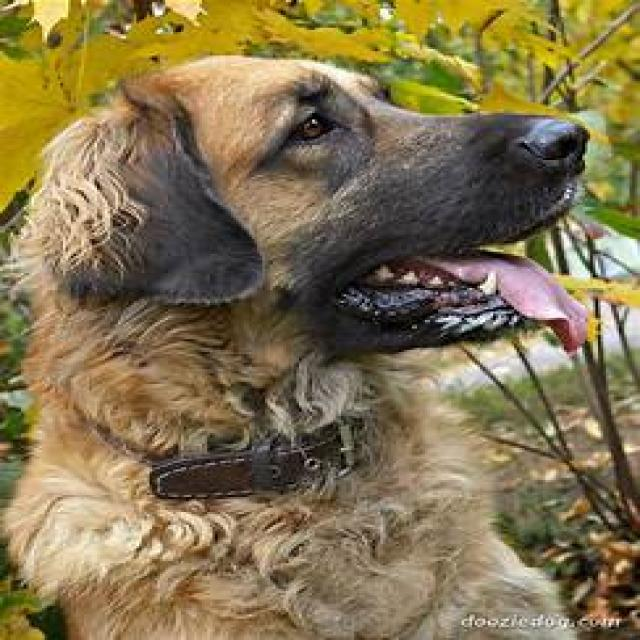dog: (21, 41, 606, 640)
